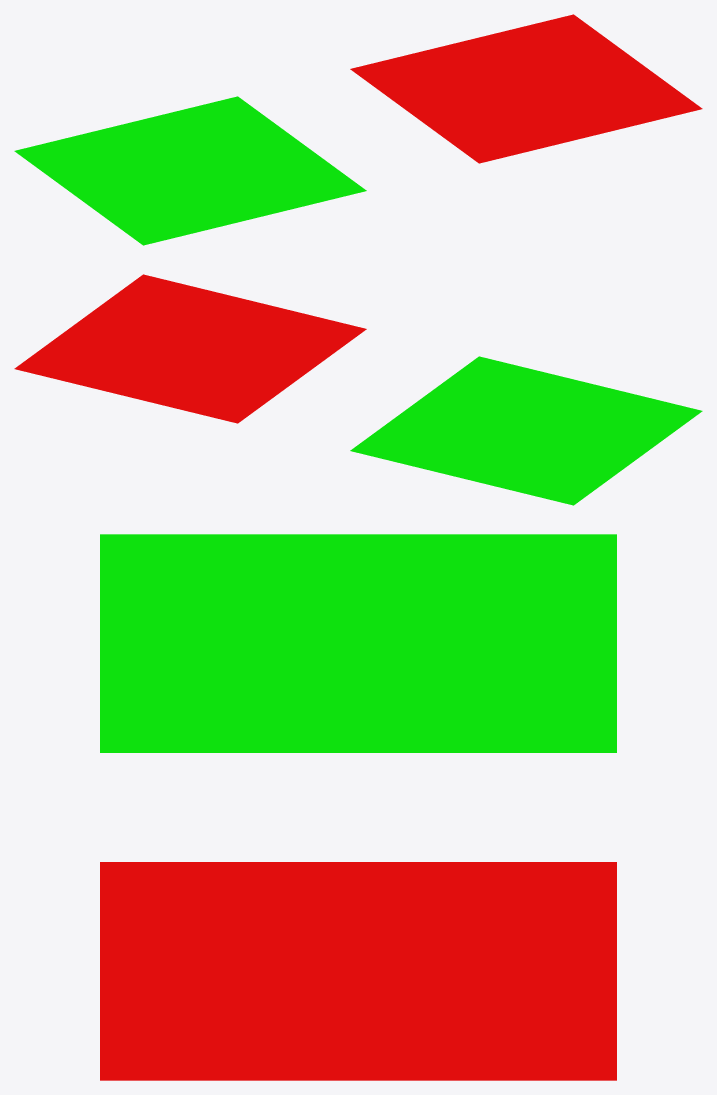
3 views of the same model, one above another, from view 1: azimuth 30°, elevation 25°; view 2: azimuth 150°, elevation 25°; view 3: azimuth 270°, elevation 25° (orthographic). The views are drawn at different scales.
Parts seen in each view (by area): view 1: PlaneGreen, PlaneRed; view 2: PlaneGreen, PlaneRed; view 3: PlaneGreen, PlaneRed.
Part boxes in pixels (box(x1,y1,x2,y2)): PlaneGreen: box(14, 96, 366, 245); PlaneRed: box(350, 14, 702, 163); PlaneGreen: box(350, 356, 702, 505); PlaneRed: box(14, 274, 366, 423); PlaneGreen: box(100, 534, 616, 752); PlaneRed: box(100, 862, 616, 1080).
Size of the model in its own units: 5 by 0 by 2.
